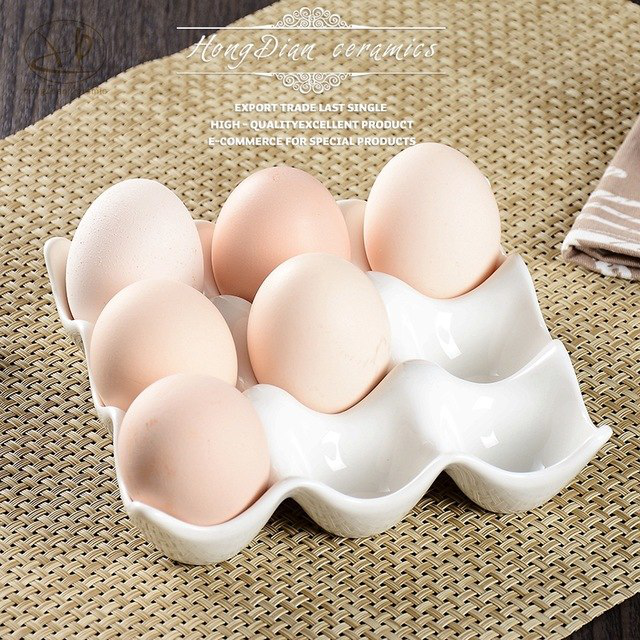egg: (64, 140, 502, 523)
